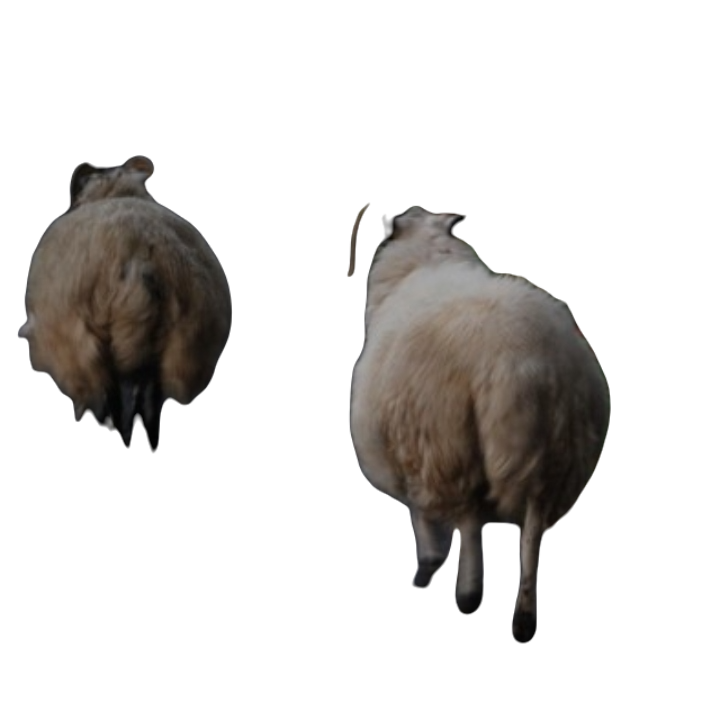Sheep: (347, 203, 618, 649), (13, 153, 240, 456)
